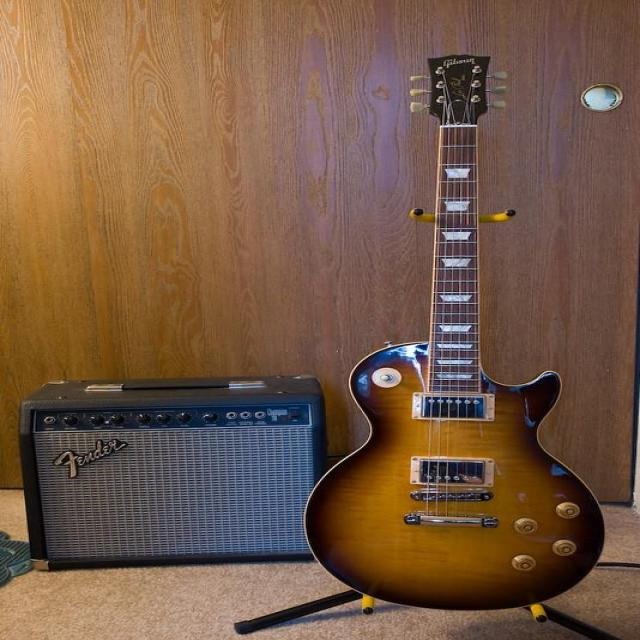guitar: (306, 56, 604, 609)
